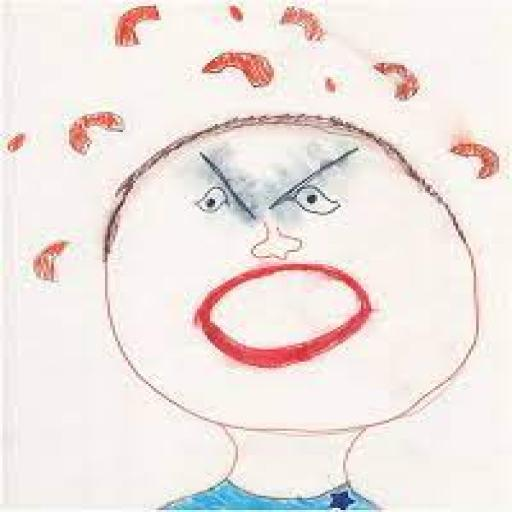person: (91, 116, 491, 510)
